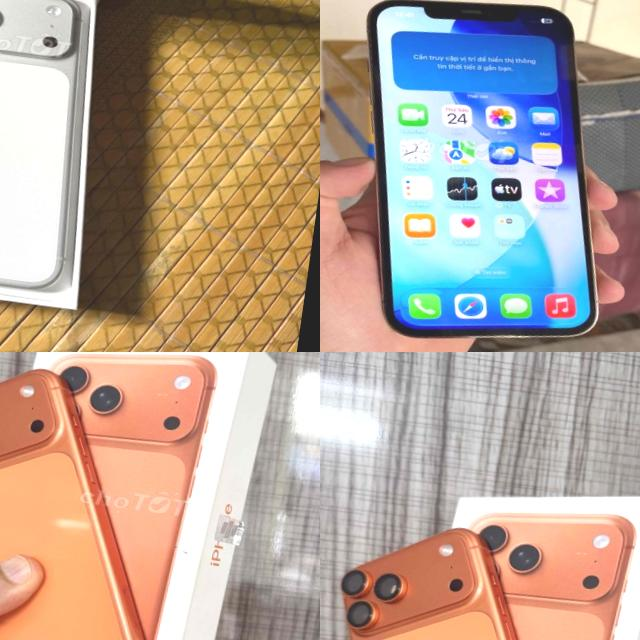gen_12_13: (320, 0, 640, 352)
gen_17: (0, 352, 199, 640), (320, 511, 618, 640), (0, 0, 104, 302)
